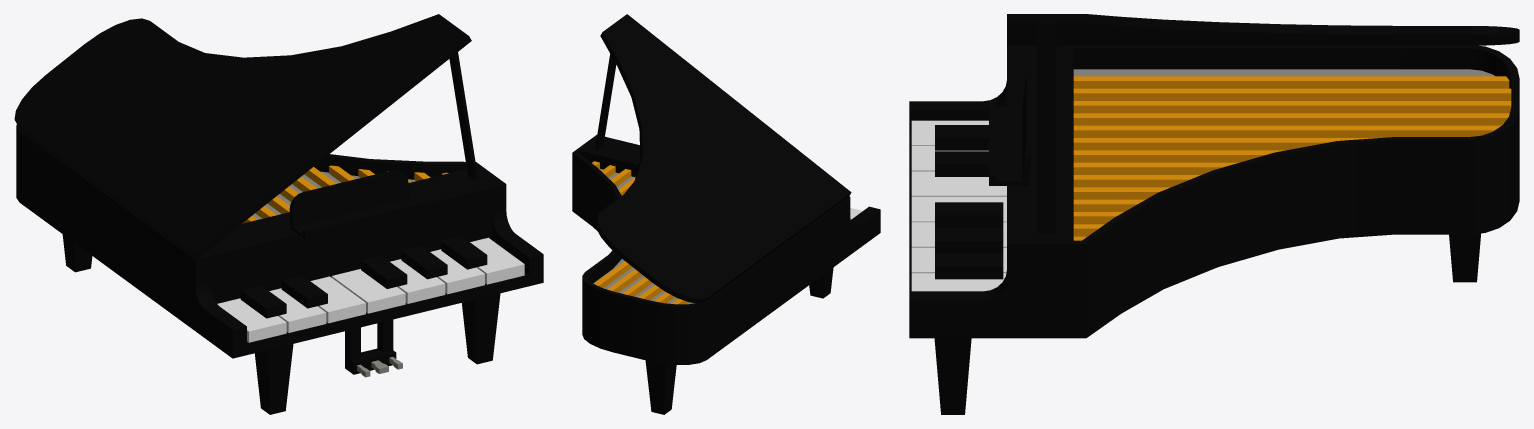
The model's file is Piano.fbx.
3 renders of one model, left to right at view 1: azimuth 30°, elevation 25°; view 2: azimuth 150°, elevation 25°; view 3: azimuth 270°, elevation 25°, orthographic. The views are drawn at different scales.
Parts seen in each view (by area): view 1: Deck, Base, Holder, Stands, Pedals, Strings, F, C, E, H, D, G (+6 smaller); view 2: Deck, Base, Strings, Stands; view 3: Base, Strings, Deck, Stands, Holder, E, A#, F#, G#, C#, D#, H (+5 smaller).
Part boxes in pixels (<box>): Deck: <box>14,14,478,259</box>; Base: <box>16,124,543,358</box>; Holder: <box>289,170,422,239</box>; Stands: <box>62,234,500,414</box>; Pedals: <box>345,319,402,377</box>; Strings: <box>243,165,448,223</box>; F: <box>331,269,405,313</box>; C: <box>217,298,286,342</box>; E: <box>310,276,365,323</box>; H: <box>470,237,524,284</box>; D: <box>269,288,326,332</box>; G: <box>390,259,445,303</box>; Deck: <box>595,14,851,303</box>; Base: <box>572,135,880,364</box>; Strings: <box>592,161,688,304</box>; Stands: <box>645,267,833,414</box>; Base: <box>909,45,1519,338</box>; Strings: <box>1073,76,1511,240</box>; Deck: <box>1007,14,1519,233</box>; Stands: <box>934,233,1481,414</box>; Holder: <box>989,76,1032,185</box>; E: <box>911,171,1006,196</box>; A#: <box>935,253,1003,279</box>; F#: <box>935,202,1003,227</box>; G#: <box>935,228,1003,253</box>; C#: <box>935,125,988,150</box>; D#: <box>935,151,988,176</box>; H: <box>911,273,1006,291</box>.
Size of the model in its own units: 325 by 304 by 418.
